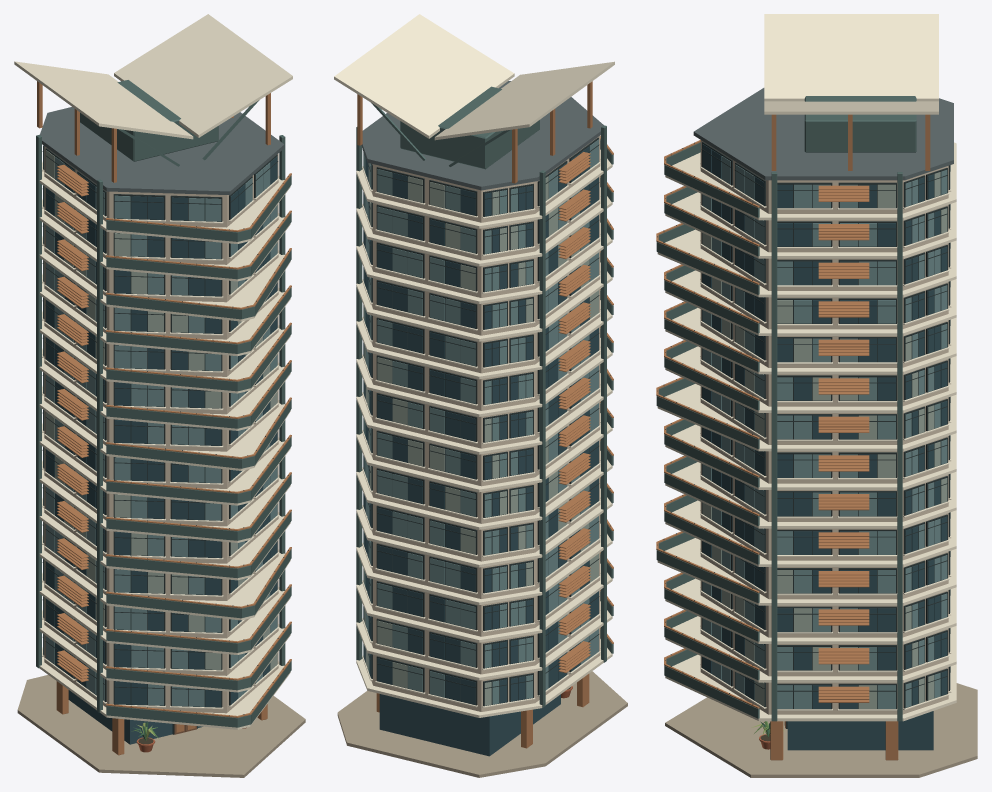
The picture shows the model from 3 angles, left to right: view 1: azimuth 30°, elevation 25°; view 2: azimuth 150°, elevation 25°; view 3: azimuth 270°, elevation 25°; orthographic projection. The views are drawn at different scales.
Parts seen in each view (by area): view 1: Foredeck balconies, Casement assemblies, Raking crown, Hexagonal dwelling stack, Arrival plinth, Prow sheer lines, Bedroom brise soleil; view 2: Casement assemblies, Hexagonal dwelling stack, Foredeck balconies, Raking crown, Arrival plinth, Prow sheer lines, Bedroom brise soleil; view 3: Casement assemblies, Foredeck balconies, Raking crown, Hexagonal dwelling stack, Bedroom brise soleil, Arrival plinth, Prow sheer lines.
Part boxes in pixels (x1=…): Foredeck balconies: x1=39, y1=161, x2=291, y2=729; Casement assemblies: x1=42, y1=145, x2=279, y2=709; Raking crown: x1=14, y1=14, x2=292, y2=194; Hexagonal dwelling stack: x1=44, y1=146, x2=278, y2=755; Arrival plinth: x1=17, y1=675, x2=305, y2=777; Prow sheer lines: x1=36, y1=134, x2=285, y2=712; Bedroom brise soleil: x1=57, y1=164, x2=88, y2=682; Casement assemblies: x1=362, y1=137, x2=600, y2=707; Hexagonal dwelling stack: x1=371, y1=136, x2=600, y2=756; Foredeck balconies: x1=356, y1=135, x2=613, y2=717; Raking crown: x1=334, y1=14, x2=614, y2=190; Arrival plinth: x1=337, y1=671, x2=627, y2=777; Prow sheer lines: x1=356, y1=125, x2=606, y2=707; Bedroom brise soleil: x1=558, y1=152, x2=590, y2=673; Casement assemblies: x1=700, y1=142, x2=951, y2=710; Foredeck balconies: x1=656, y1=140, x2=956, y2=721; Raking crown: x1=693, y1=14, x2=953, y2=180; Hexagonal dwelling stack: x1=700, y1=140, x2=948, y2=760; Bedroom brise soleil: x1=818, y1=185, x2=869, y2=702; Arrival plinth: x1=665, y1=683, x2=977, y2=777; Prow sheer lines: x1=771, y1=172, x2=902, y2=721.
Bounding box in the file's own units: 18.06 × 53.7 × 23.57.
